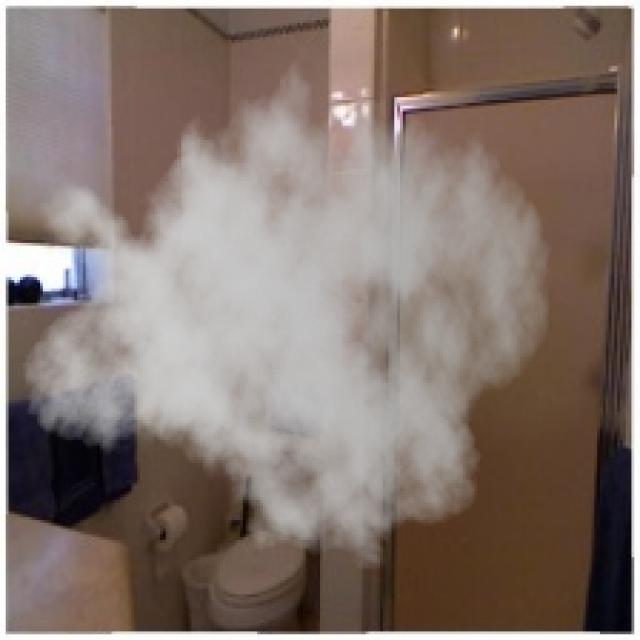smoke: (20, 37, 551, 583)
